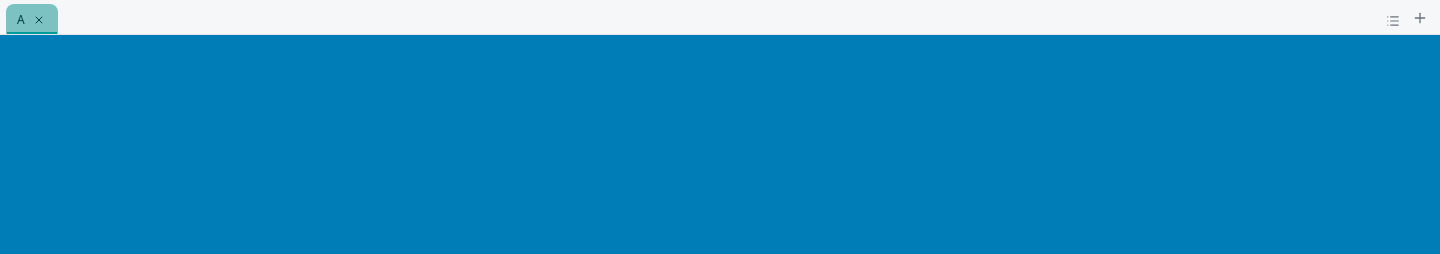
Test: TabBar › 仅剩一个标签时「关闭标签」禁用
Right-click the button "A": (32, 19) [6,4,58,34]
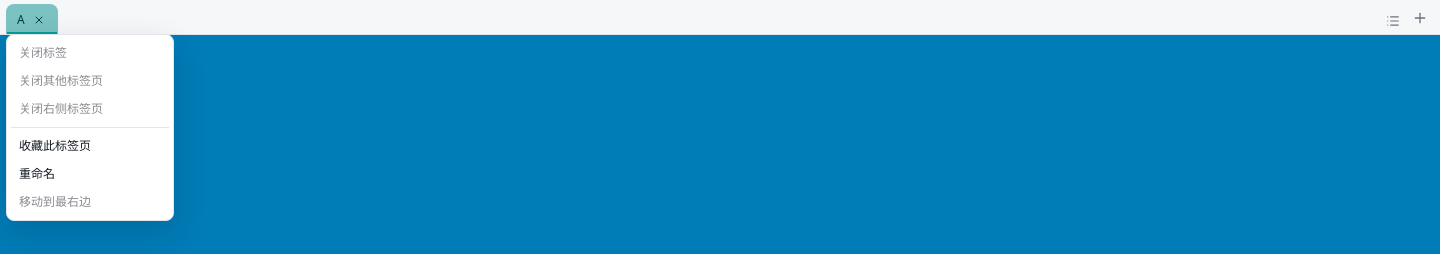
Check: the button "关闭标签" is disabled, box [11,39,169,67]
